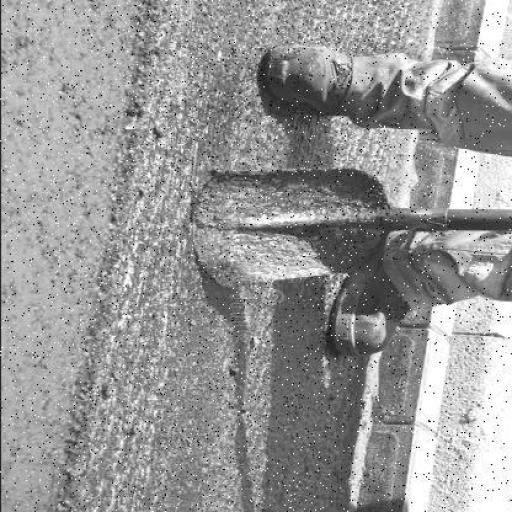safety_shoe: (326, 258, 416, 360), (266, 46, 365, 118)
